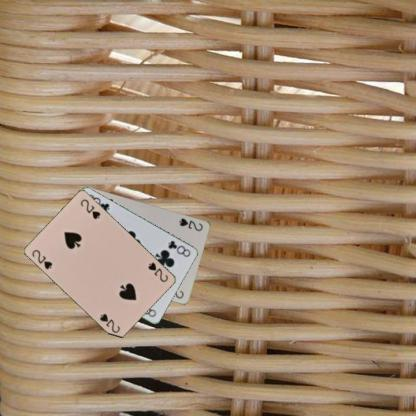2s: (29, 247, 54, 270), (146, 260, 169, 283), (176, 216, 204, 232)
8c: (165, 238, 192, 258)
